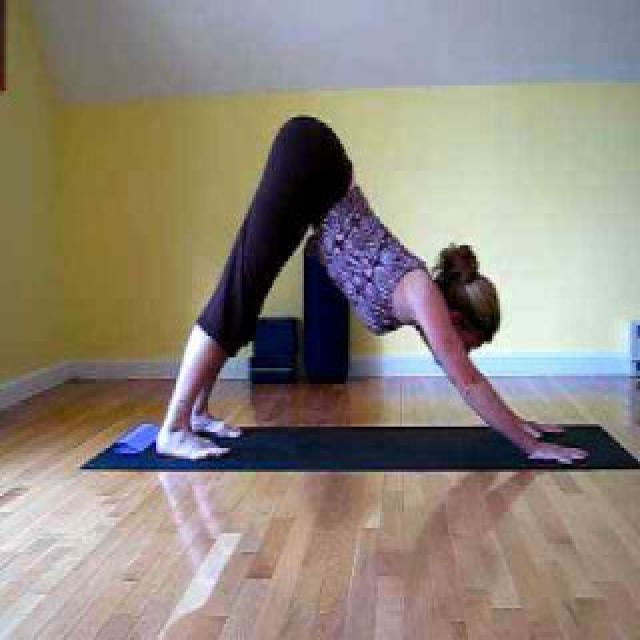yoga-pose downward: (148, 110, 599, 474)
